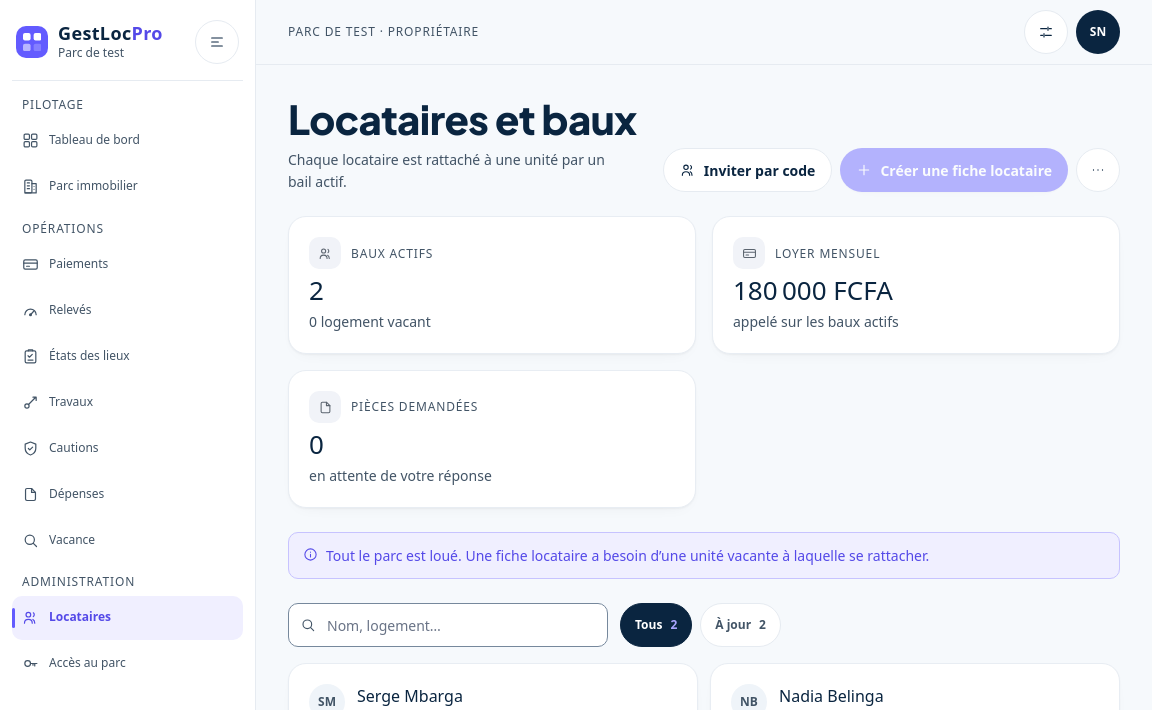
Test case: prévenir les locataires › écrit à tout le parc par défaut
Click the button named "Autres actions" at [1098, 170], box [1076,148,1120,192]
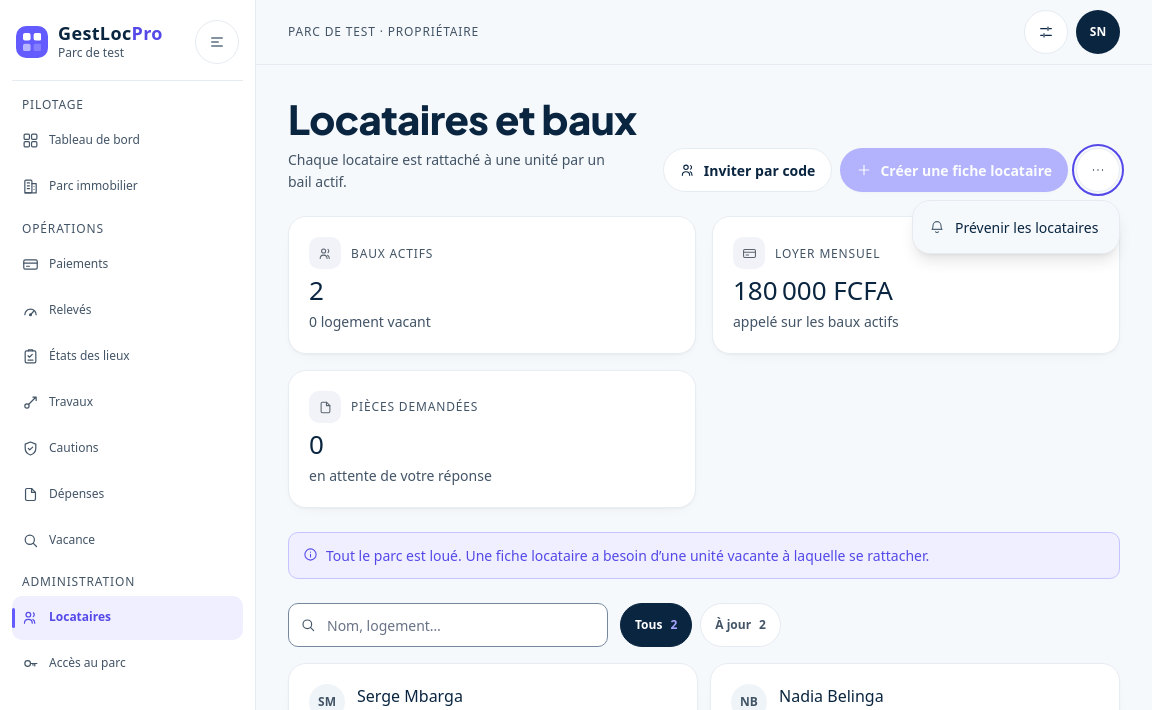
Click the menu item "Prévenir les locataires" at [1016, 227], box [917,205,1115,249]
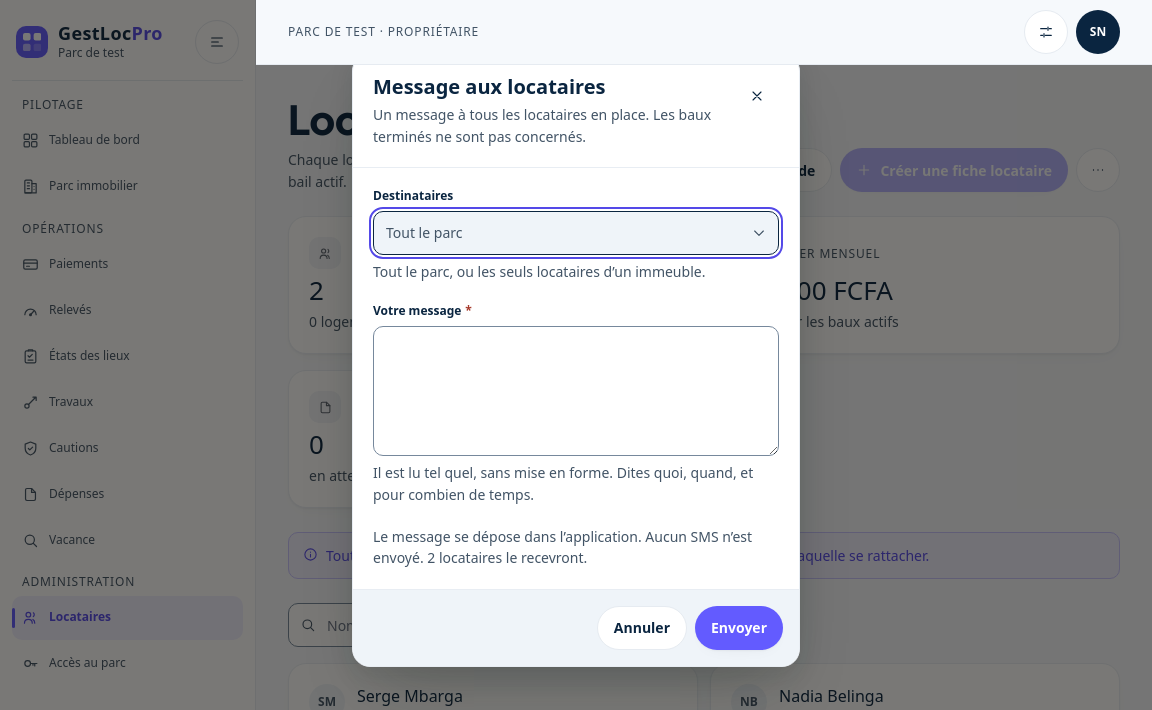
Type "Coupure d’eau jeudi de 8 h à 12 h." into the text box at [576, 391], box [373,326,779,456]
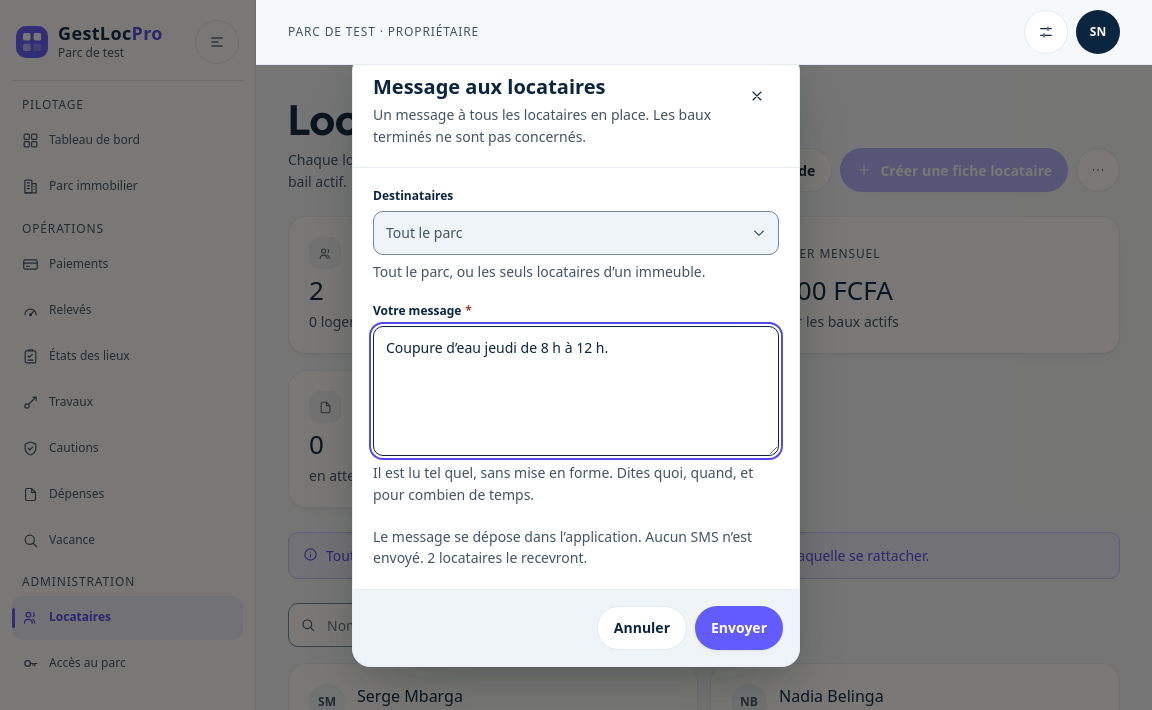
Click the button "Envoyer" at [739, 628], box [695,606,783,650]
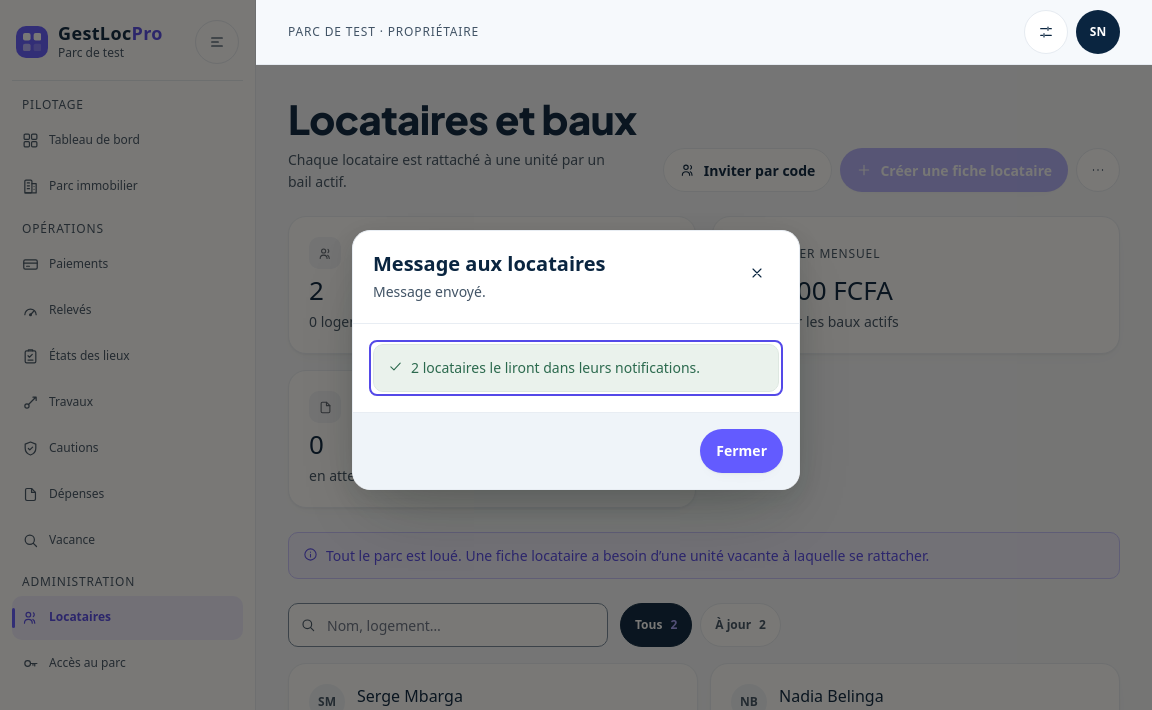
Check: the text "2 locataires le liront dans leurs notifications." is shown, box [411,357,700,379]
